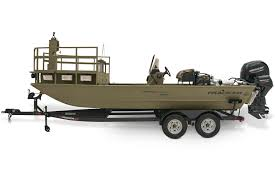boat: (1, 32, 273, 139)
